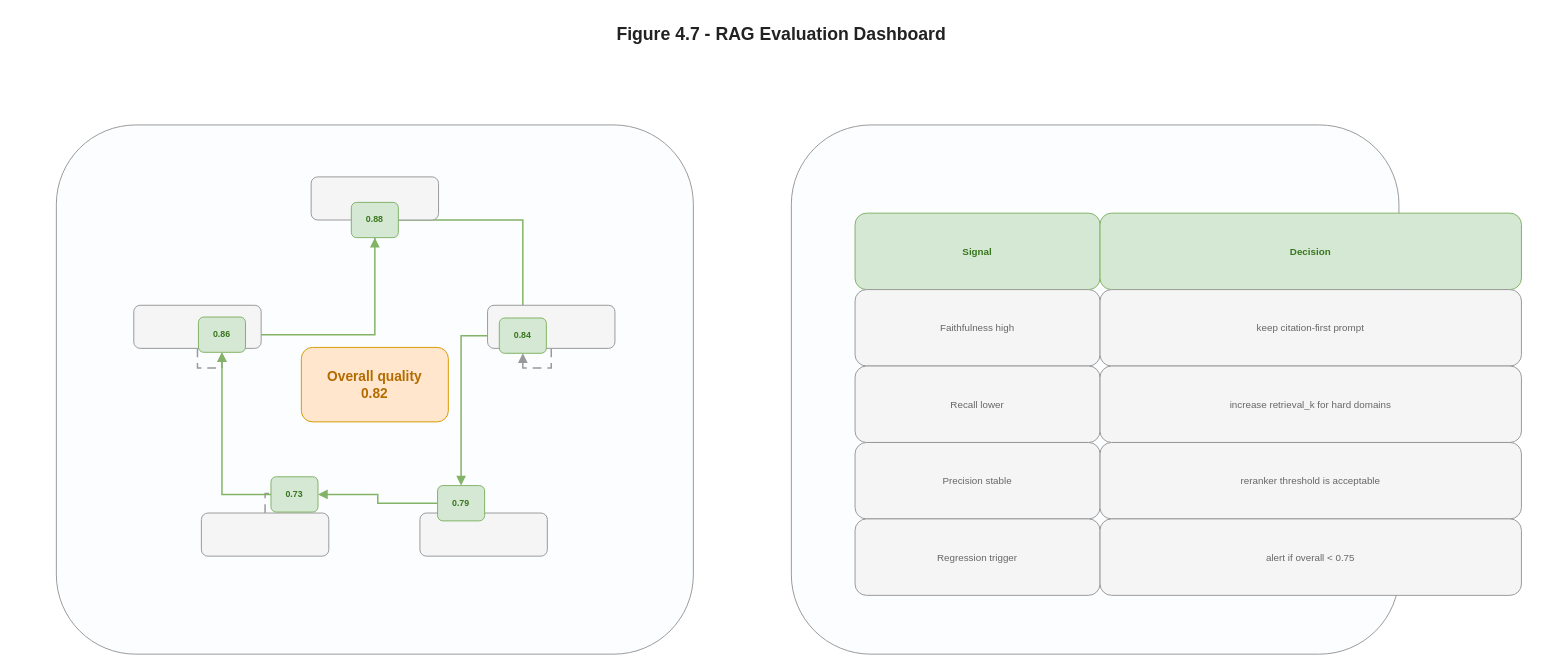
Some shapes in this 1562 by 671 pixel diagram are drawn without their labels. Here are the shapes that lost their labels. From the top down, the box of each, then its label:
(310, 176, 439, 220): Faithfulness
(133, 304, 261, 348): Grounding
(487, 304, 615, 348): Answer relevance
(55, 124, 693, 654): RAGAS metrics
(790, 124, 1399, 654): Operational interpretation
(200, 512, 329, 556): Context recall
(419, 512, 547, 556): Context precision
